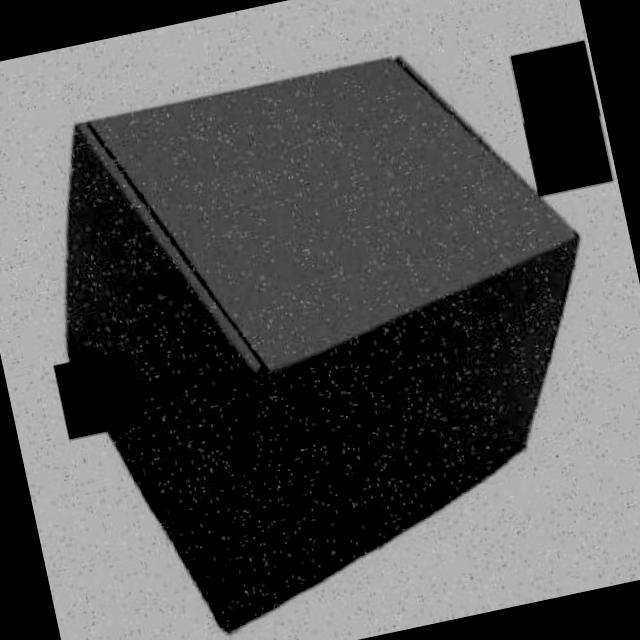box: (18, 24, 640, 640)
